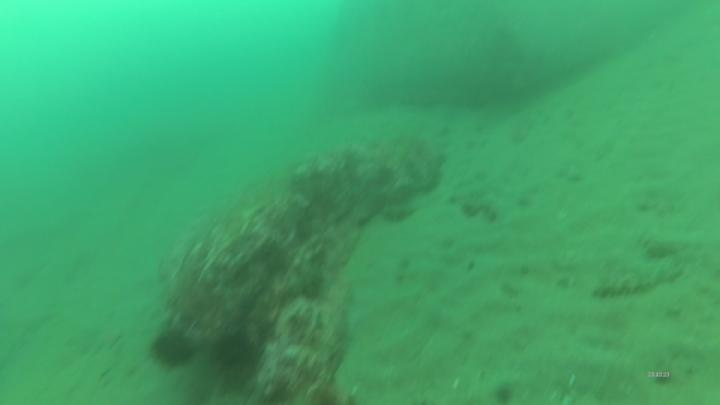echinus: (145, 320, 204, 373)
